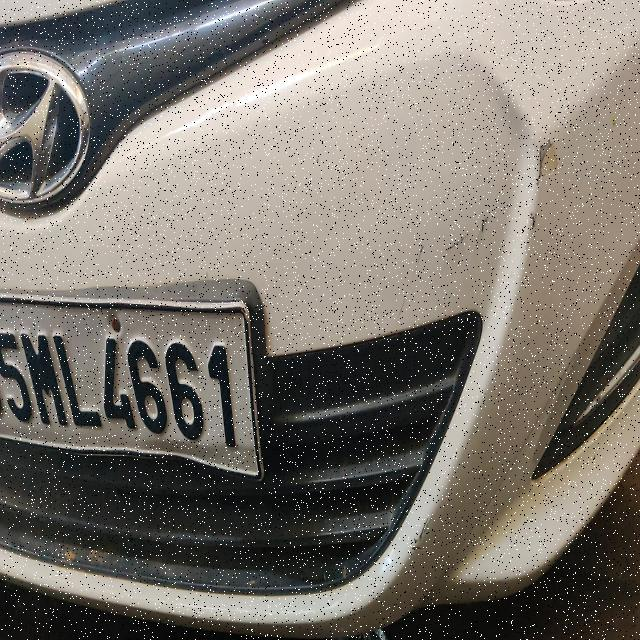front-bumper-dent: (264, 0, 639, 630)
